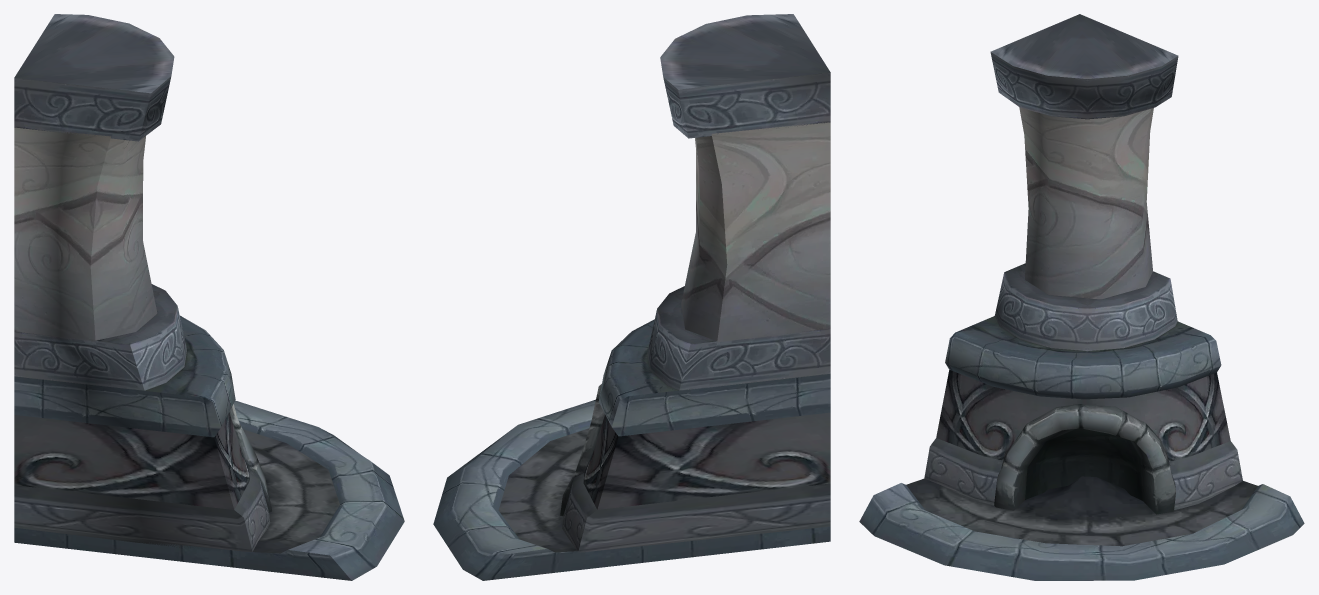
The picture shows the model from 3 angles, left to right: view 1: azimuth 30°, elevation 25°; view 2: azimuth 150°, elevation 25°; view 3: azimuth 270°, elevation 25°; orthographic projection. The views are drawn at different scales.
Bounding box in the file's own units: 5.54 × 7.02 × 6.84.
Materials: 1 (1 with a texture image).
